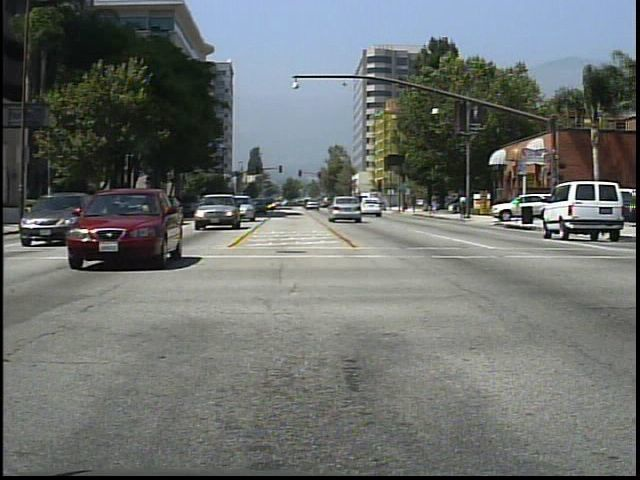person: (455, 189, 471, 221), (429, 191, 442, 216)
